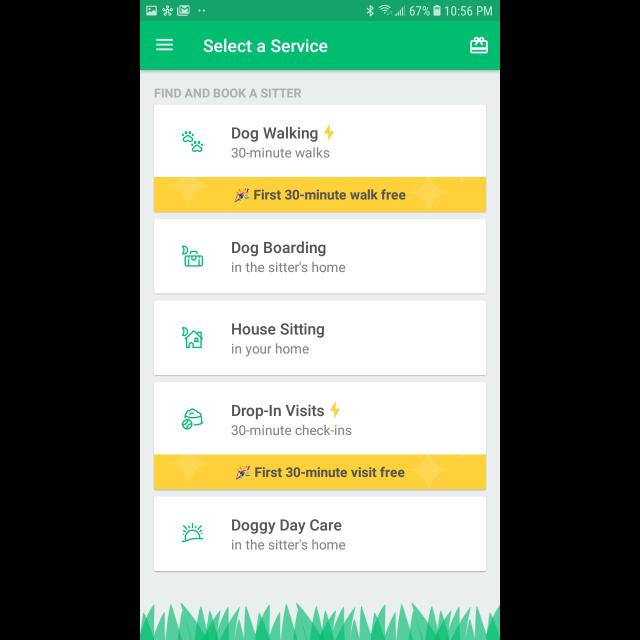icon: (182, 245, 204, 267), (182, 328, 204, 348), (470, 37, 488, 55), (156, 39, 174, 51)
image: (140, 602, 500, 640), (182, 408, 204, 430), (182, 131, 204, 153), (181, 522, 203, 542), (234, 188, 250, 202), (236, 466, 250, 480), (330, 402, 340, 418), (324, 124, 334, 140)
text: (204, 39, 328, 53), (255, 467, 405, 478), (232, 520, 342, 534), (254, 190, 406, 200), (232, 241, 326, 257), (154, 89, 302, 99), (232, 404, 324, 420), (232, 424, 352, 436), (232, 126, 318, 142), (232, 538, 346, 550), (232, 324, 324, 338), (232, 262, 346, 272), (232, 343, 310, 357), (232, 148, 330, 158)
uppertaskbar: (140, 1, 500, 22)
